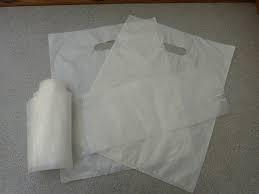Plastic bag: (48, 21, 235, 191), (13, 73, 79, 180)
